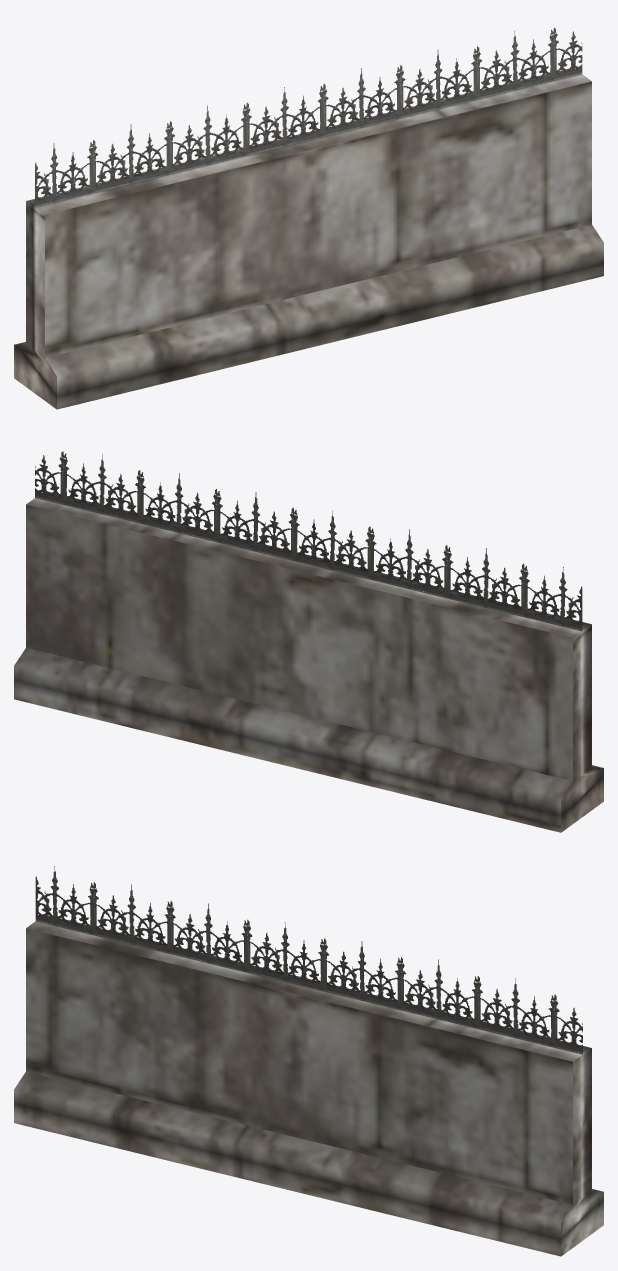
File: fence_tiny.glb
3 views of the same model, one above another, from view 1: azimuth 30°, elevation 25°; view 2: azimuth 150°, elevation 25°; view 3: azimuth 330°, elevation 25° (orthographic).
Visible parts, largest first — view 1: fence_tiny; view 2: fence_tiny; view 3: fence_tiny.
Part boxes in pixels (bbox=[...]): fence_tiny: bbox=[14, 27, 603, 409]; fence_tiny: bbox=[14, 451, 603, 832]; fence_tiny: bbox=[14, 866, 603, 1256].
Bounding box in the file's own units: 4 × 1.72 × 0.5426.
2 materials, 2 textured.
